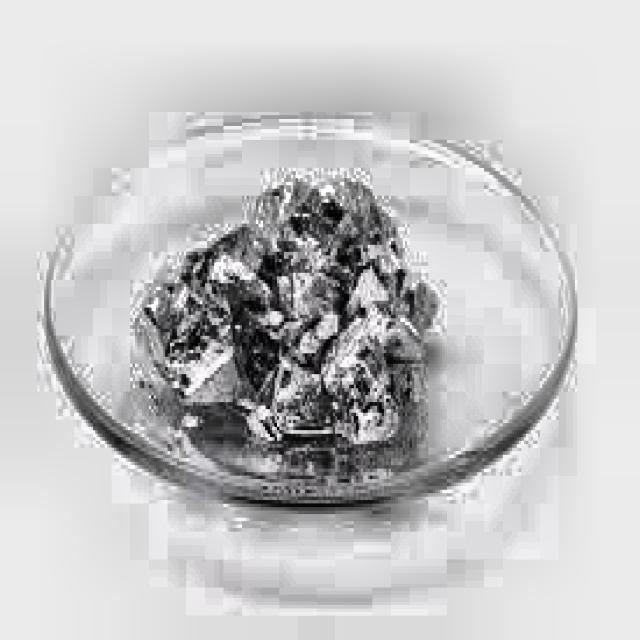Foil: (152, 164, 458, 476)
